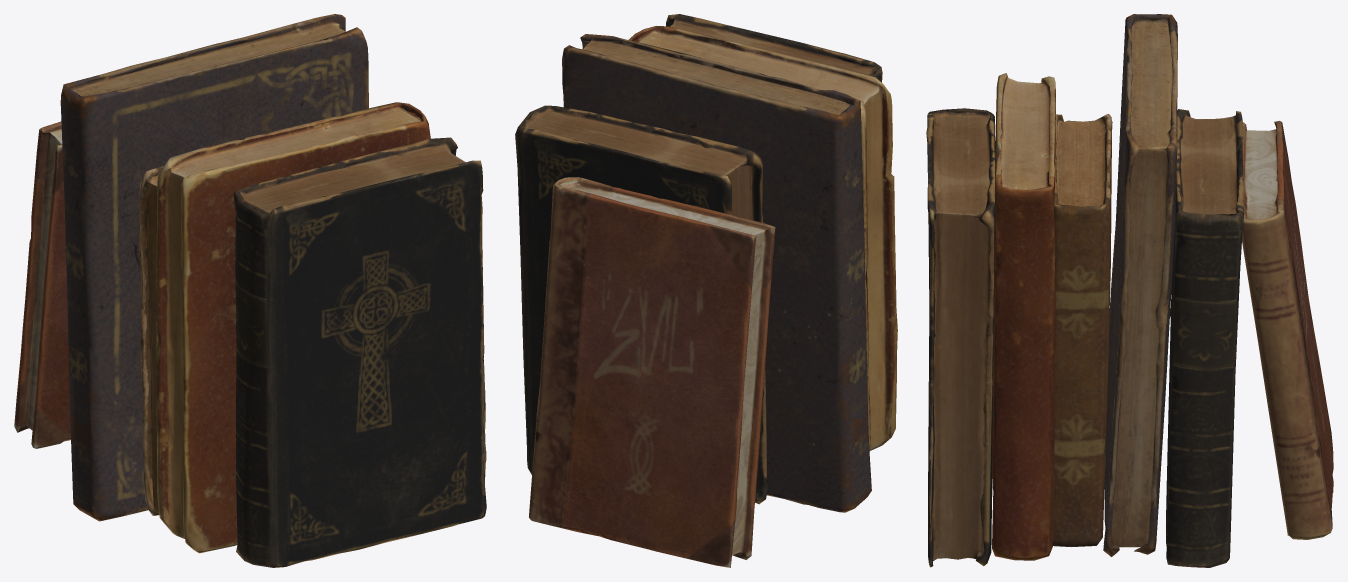
The model's file is SM_Prop_Bookset_F.fbx.
3 renders of one model, left to right at view 1: azimuth 30°, elevation 25°; view 2: azimuth 150°, elevation 25°; view 3: azimuth 270°, elevation 25°, orthographic. The views are drawn at different scales.
Parts seen in each view (by area): view 1: SM_Prop_Bookset_F_LOD0; view 2: SM_Prop_Bookset_F_LOD0; view 3: SM_Prop_Bookset_F_LOD0.
Part boxes in pixels (x1,y1,x2,y2): SM_Prop_Bookset_F_LOD0: (14,14,486,567); SM_Prop_Bookset_F_LOD0: (515,14,897,567); SM_Prop_Bookset_F_LOD0: (926,14,1333,567).
Bounding box in the file's own units: 28.2 × 32.81 × 36.92.
1 material, 1 textured.
